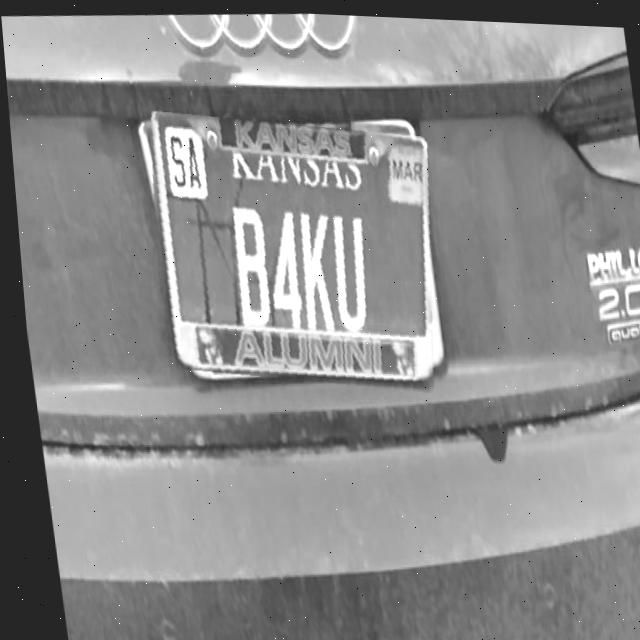LicensePlate: (150, 111, 427, 379)
